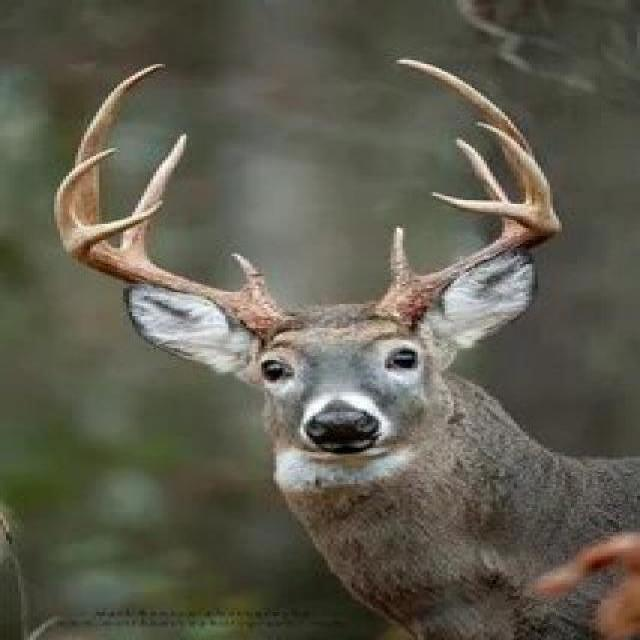deer: (22, 16, 640, 637)
